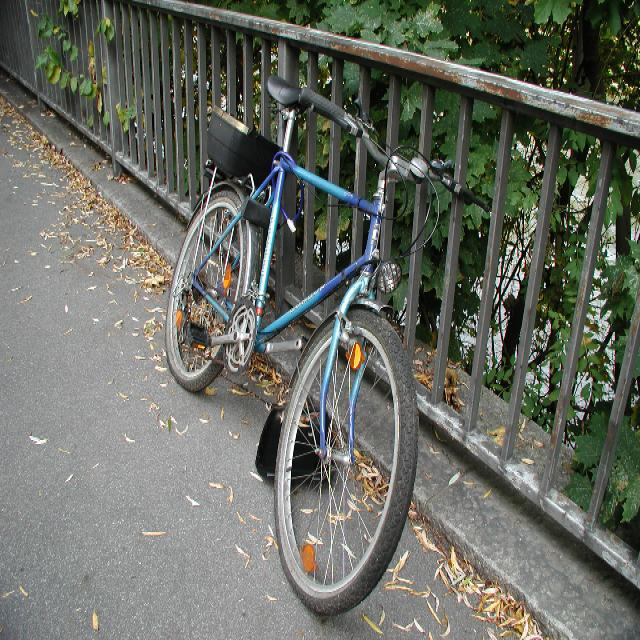bicycle: (164, 73, 458, 616)
